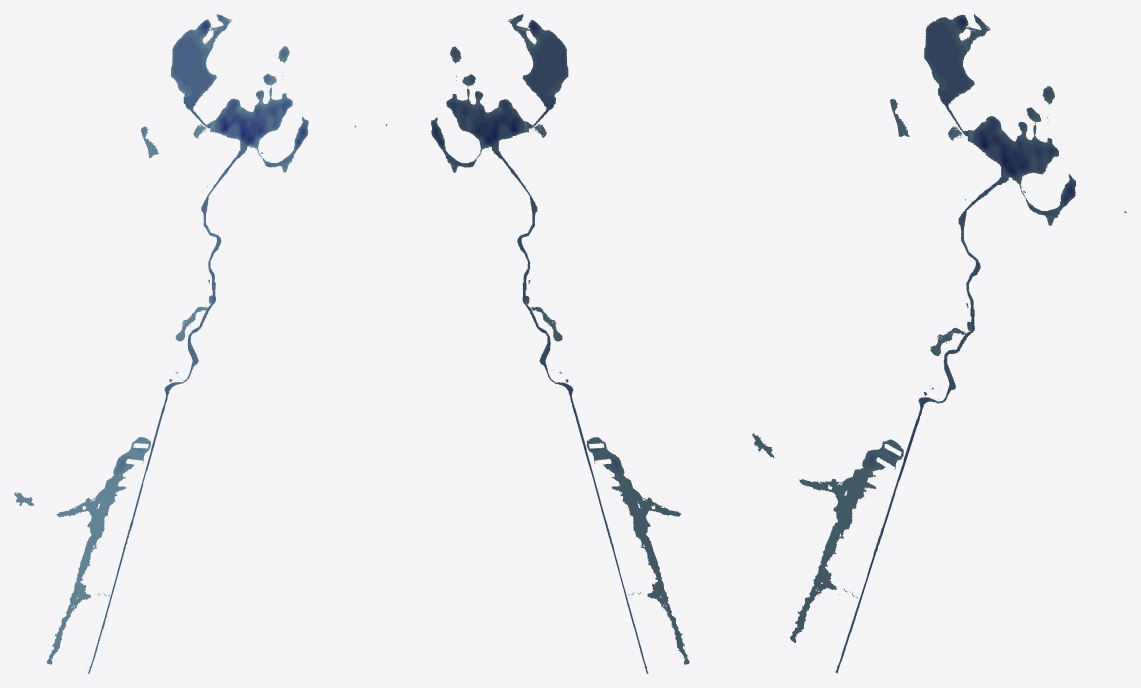
Rendered from triangle_mesh.glb.
The picture shows the model from 3 angles, left to right: view 1: azimuth 30°, elevation 25°; view 2: azimuth 150°, elevation 25°; view 3: azimuth 330°, elevation 25°; orthographic projection. The views are drawn at different scales.
Visible parts, largest first — view 1: world; view 2: world; view 3: world.
Part boxes in pixels (left/top/right/bottom): world: left=14, top=14, right=356, bottom=673; world: left=385, top=14, right=689, bottom=673; world: left=752, top=14, right=1126, bottom=673.
Size of the model in its own units: 1552 by 2739 by 18.73.
